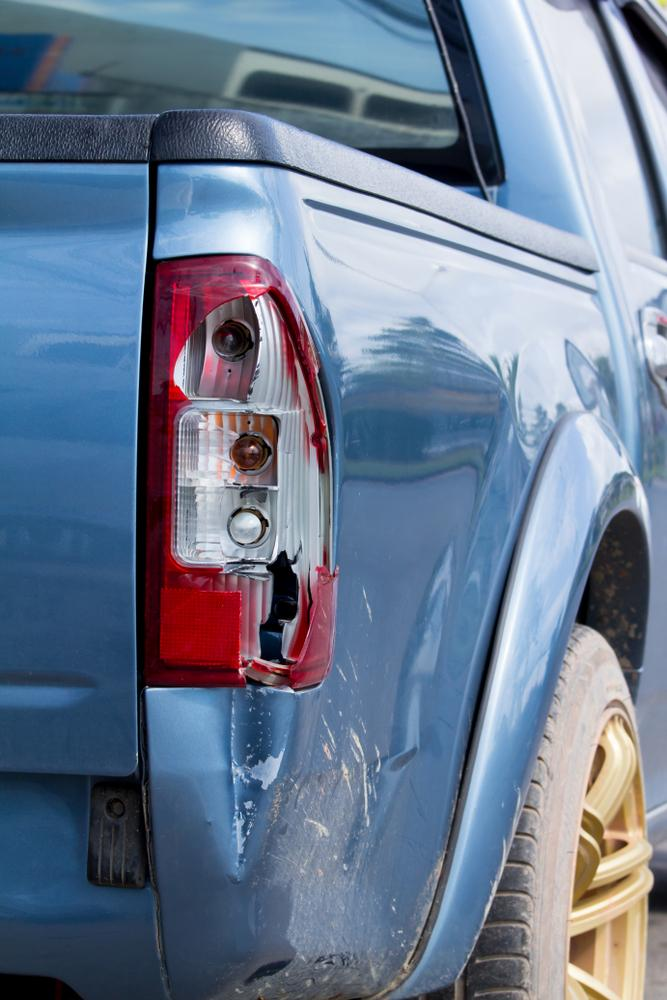dent: (190, 383, 502, 964)
lamp broken: (142, 254, 338, 689)
